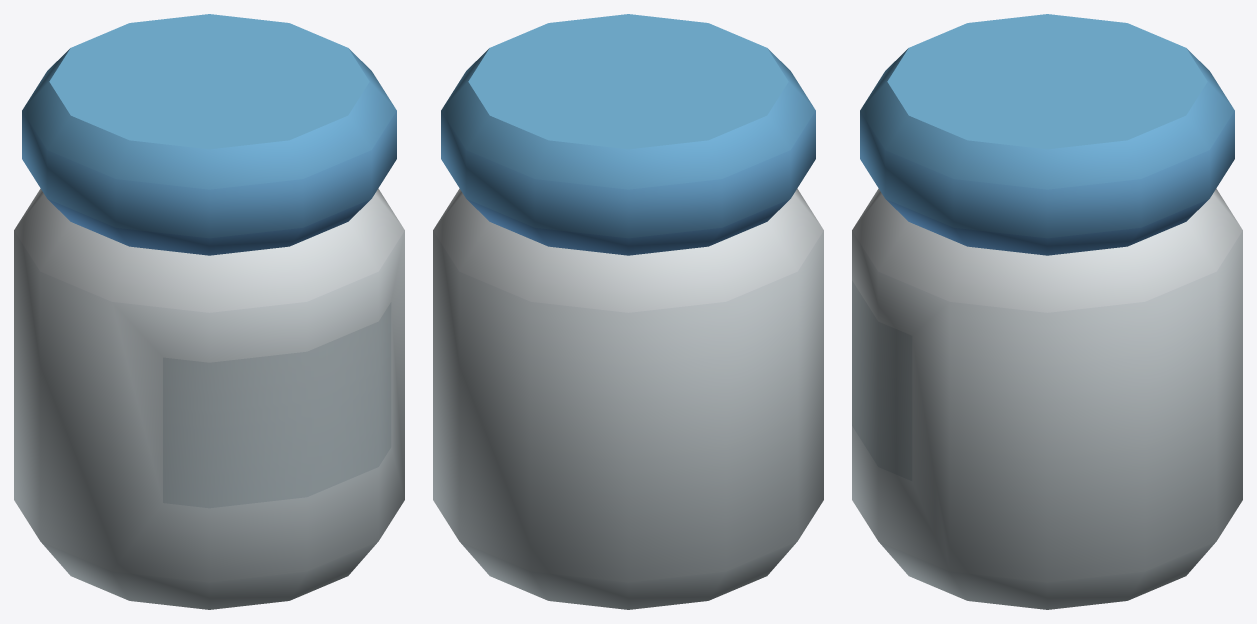
The model's file is jar_A_medium.glb.
The picture shows the model from 3 angles, left to right: view 1: azimuth 30°, elevation 25°; view 2: azimuth 150°, elevation 25°; view 3: azimuth 270°, elevation 25°; orthographic projection.
Visible parts, largest first — view 1: jar_A_medium; view 2: jar_A_medium; view 3: jar_A_medium.
Part boxes in pixels (x1,y1,x2,y2): jar_A_medium: (14,14,404,609); jar_A_medium: (433,14,823,609); jar_A_medium: (852,14,1242,609).
Bounding box in the file's own units: 0.5 × 0.65 × 0.5.
Materials: 1 (1 with a texture image).
